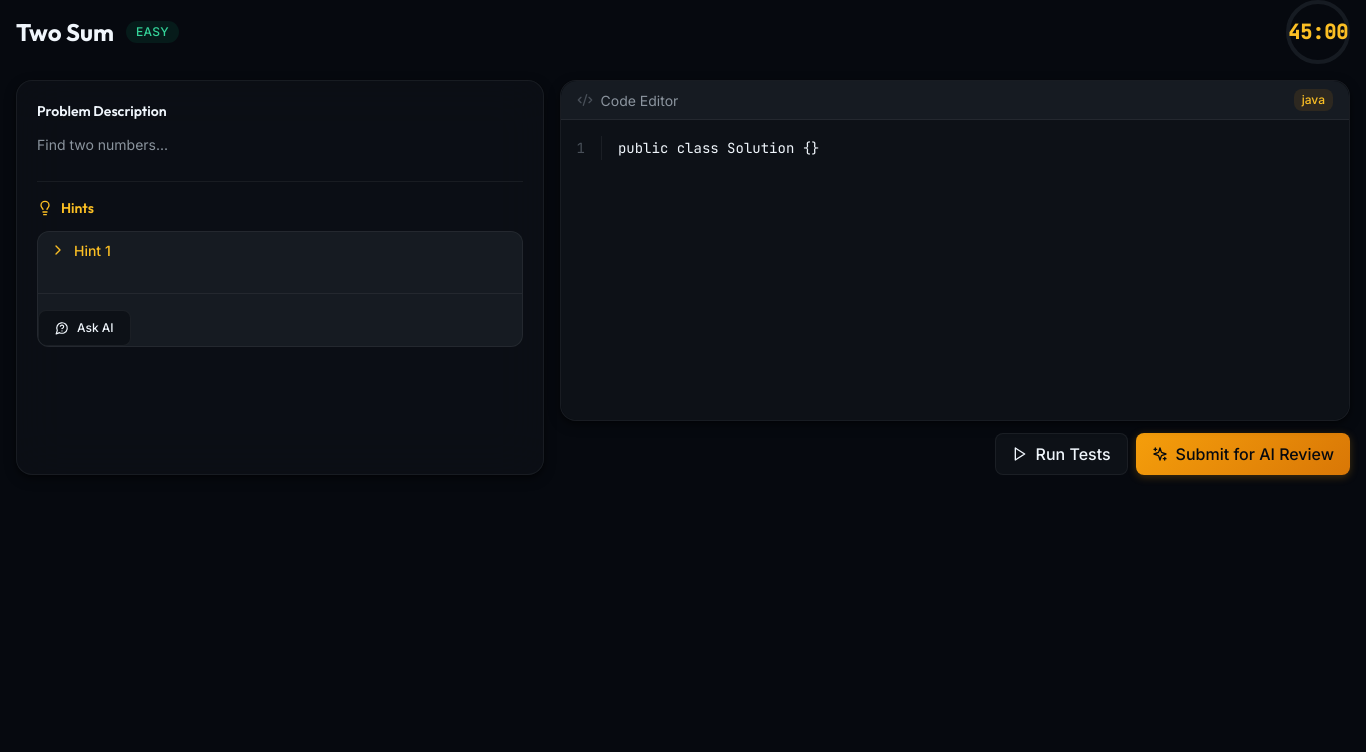
Test: ChallengeWorkspace - Reference Solution › shows reference solution after successful submission
This screenshot has width=1366, height=752.
Expected: the heading "Two Sum" is shown, [16,14,114,50]
Expected: the text "Show Optimal Solution" is not shown
Note: Submit solution
Click the button "Run Tests".
click(1061, 454)  # box [995,433,1128,475]
(page scrolled)
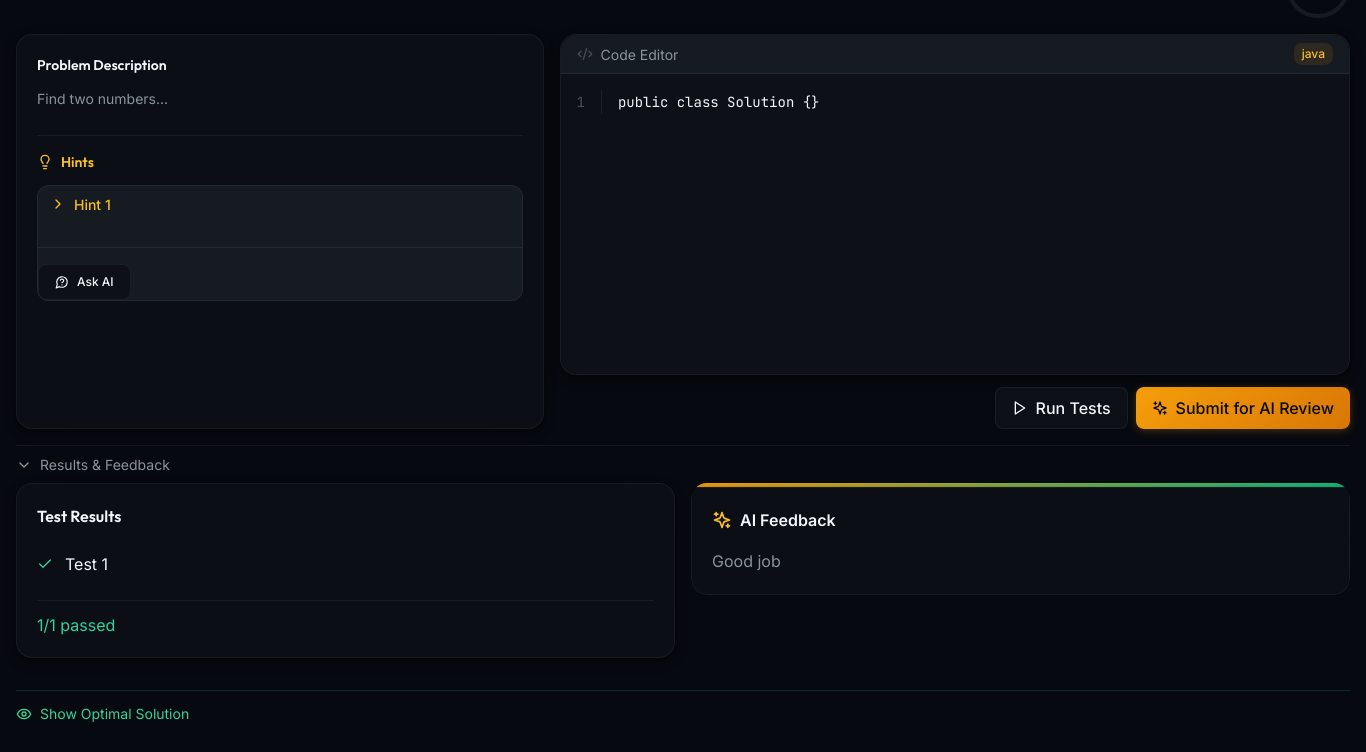
Expected: the button "Show Optimal Solution" is shown, [16,691,189,736]
